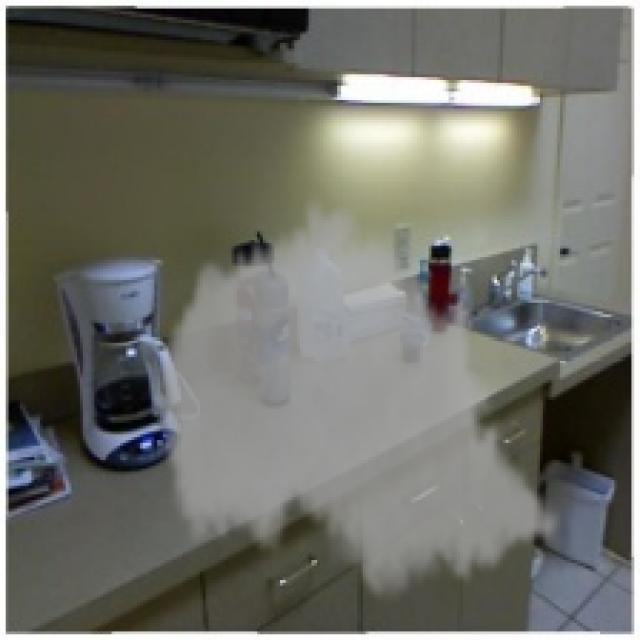smoke: (151, 192, 563, 612)
